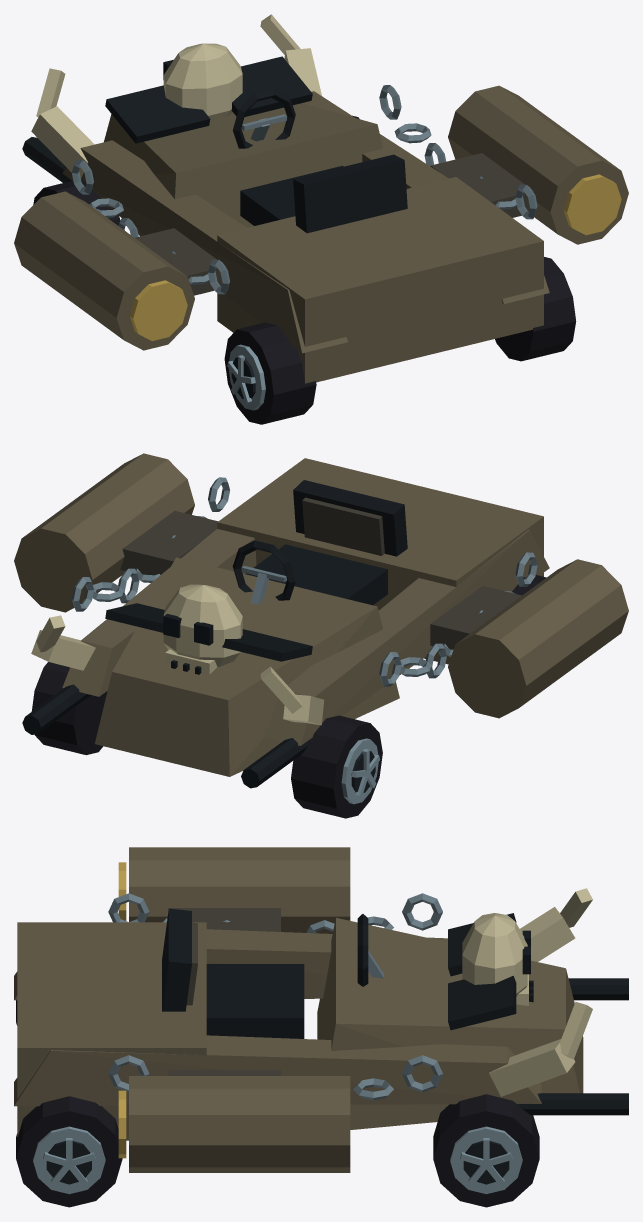
File: kart.glb
3 renders of one model, top to bottom at view 1: azimuth 30°, elevation 25°; view 2: azimuth 150°, elevation 25°; view 3: azimuth 270°, elevation 25°, orthographic. The views are drawn at different scales.
Parts seen in each view (by area): view 1: identity-gunship-gunship-armored-cargo-fuselage, identity-gunship-driver-cockpit, wheel-rear-left, identity-gunship-motif-skull, identity-gunship-motif-tusks, identity-gunship-motif-chains, wheel-rear-right, wheel-front-left; view 2: identity-gunship-gunship-armored-cargo-fuselage, identity-gunship-driver-cockpit, wheel-front-left, identity-gunship-motif-skull, identity-gunship-motif-chains, identity-gunship-motif-tusks, wheel-front-right; view 3: identity-gunship-gunship-armored-cargo-fuselage, identity-gunship-driver-cockpit, wheel-front-right, wheel-rear-right, identity-gunship-motif-tusks, identity-gunship-motif-skull, identity-gunship-motif-chains.
Part boxes in pixels (box(x1,y1,x2,y2)): identity-gunship-gunship-armored-cargo-fuselage: box(14, 56, 628, 383); identity-gunship-driver-cockpit: box(232, 89, 407, 233); wheel-rear-left: box(224, 322, 316, 424); identity-gunship-motif-skull: box(163, 43, 242, 120); identity-gunship-motif-tusks: box(31, 14, 321, 178); identity-gunship-motif-chains: box(72, 85, 537, 294); wheel-rear-right: box(495, 257, 576, 361); wheel-front-left: box(33, 180, 120, 225); identity-gunship-gunship-armored-cargo-fuselage: box(14, 453, 628, 788); identity-gunship-driver-cockpit: box(232, 480, 407, 605); wheel-front-left: box(291, 715, 382, 818); identity-gunship-motif-skull: box(163, 584, 242, 674); identity-gunship-motif-chains: box(72, 477, 537, 686); identity-gunship-motif-tusks: box(31, 615, 324, 725); wheel-front-right: box(31, 662, 107, 755); identity-gunship-gunship-armored-cargo-fuselage: box(14, 847, 628, 1172); identity-gunship-driver-cockpit: box(162, 908, 384, 1038); wheel-front-right: box(433, 1094, 539, 1207); wheel-rear-right: box(16, 1096, 122, 1207); identity-gunship-motif-tusks: box(489, 888, 592, 1096); identity-gunship-motif-skull: box(462, 913, 533, 1005); identity-gunship-motif-chains: box(108, 893, 442, 1100).
Size of the model in its own units: 3 by 1.1 by 2.89.
